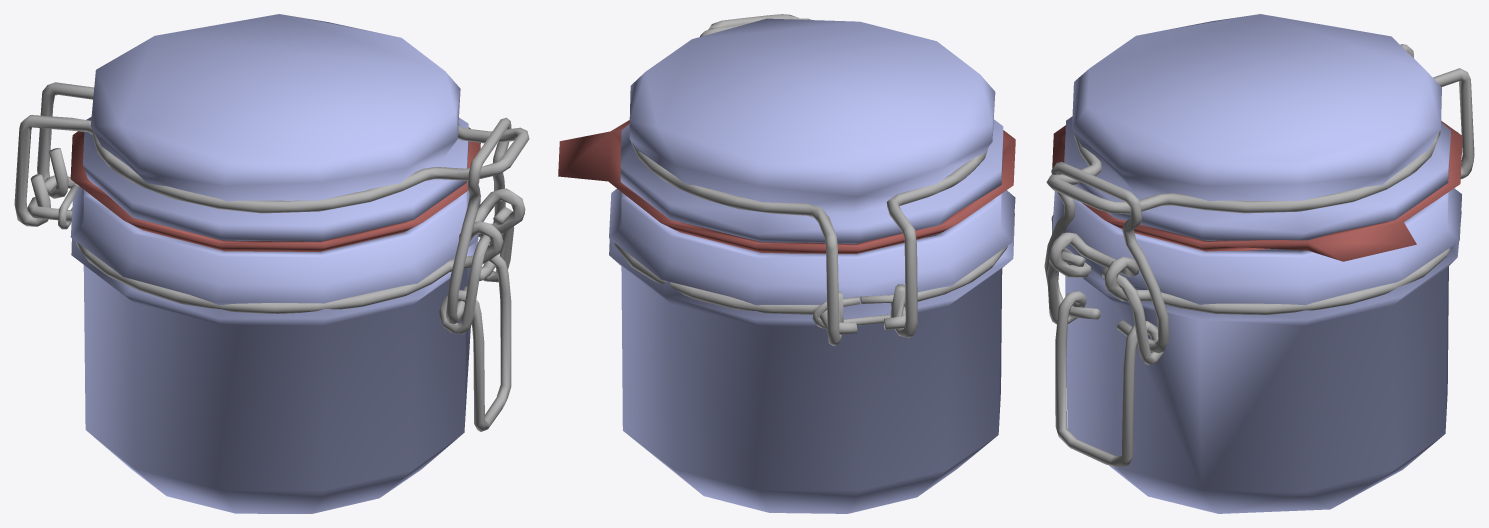
File: brain.fbx
3 renders of one model, left to right at view 1: azimuth 30°, elevation 25°; view 2: azimuth 150°, elevation 25°; view 3: azimuth 270°, elevation 25°, orthographic.
Parts seen in each view (by area): view 1: kitchen.preserving.jar.large, kitchen.preserving.jar.large.wire; view 2: kitchen.preserving.jar.large, kitchen.preserving.jar.large.wire; view 3: kitchen.preserving.jar.large, kitchen.preserving.jar.large.wire.
Boxes of the visible parts, bbox=[...] form: kitchen.preserving.jar.large: bbox=[70, 14, 480, 513]; kitchen.preserving.jar.large.wire: bbox=[14, 82, 529, 431]; kitchen.preserving.jar.large: bbox=[558, 18, 1015, 513]; kitchen.preserving.jar.large.wire: bbox=[614, 14, 1007, 345]; kitchen.preserving.jar.large: bbox=[1052, 14, 1462, 513]; kitchen.preserving.jar.large.wire: bbox=[1044, 44, 1474, 467].
Bounding box in the file's own units: 443 × 391 × 418.
